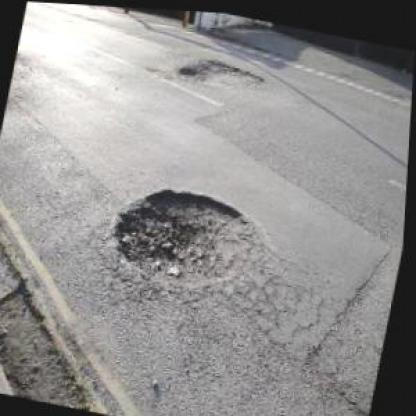pothole: (108, 174, 270, 296), (0, 271, 123, 410), (175, 46, 273, 98)
